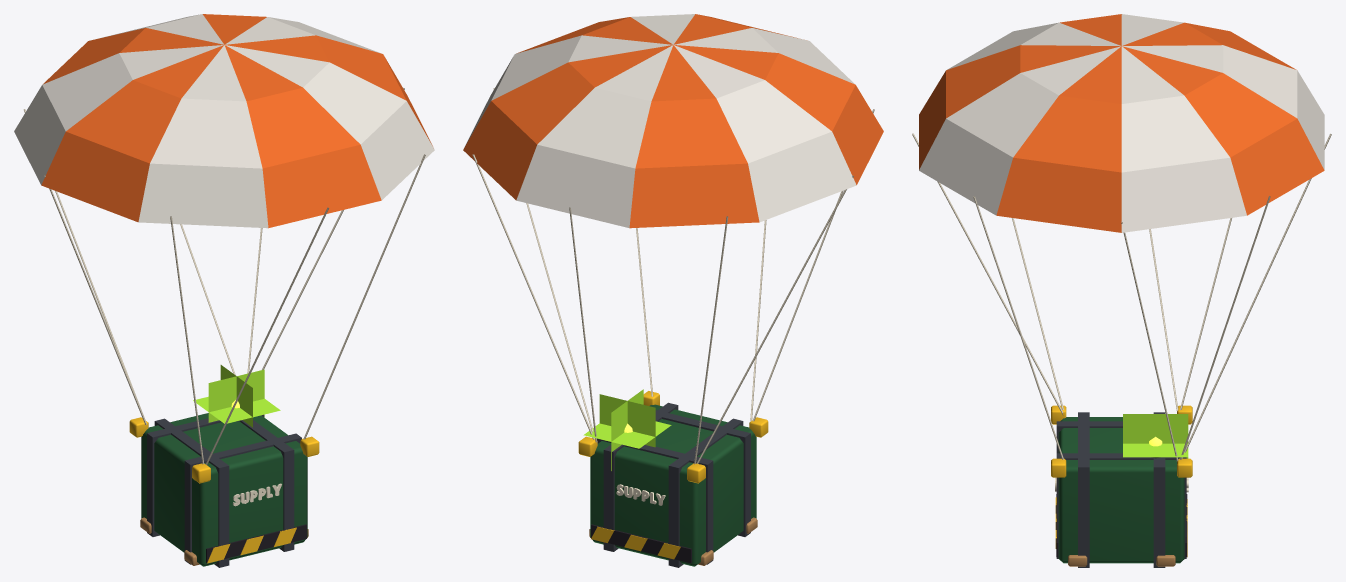
File: city_supply_crate.glb
3 renders of one model, left to right at view 1: azimuth 30°, elevation 25°; view 2: azimuth 150°, elevation 25°; view 3: azimuth 270°, elevation 25°, orthographic.
Parts seen in each view (by area): view 1: Parachute, Crate; view 2: Parachute, Crate; view 3: Parachute, Crate.
Boxes of the visible parts, x1,y1,x2,y2 form: Parachute: (14, 14, 434, 464); Crate: (129, 365, 319, 567); Parachute: (463, 14, 883, 464); Crate: (578, 389, 768, 567); Parachute: (912, 14, 1331, 461); Crate: (1051, 405, 1192, 567).
Bounding box in the file's own units: 4.4 × 5.62 × 4.33.
